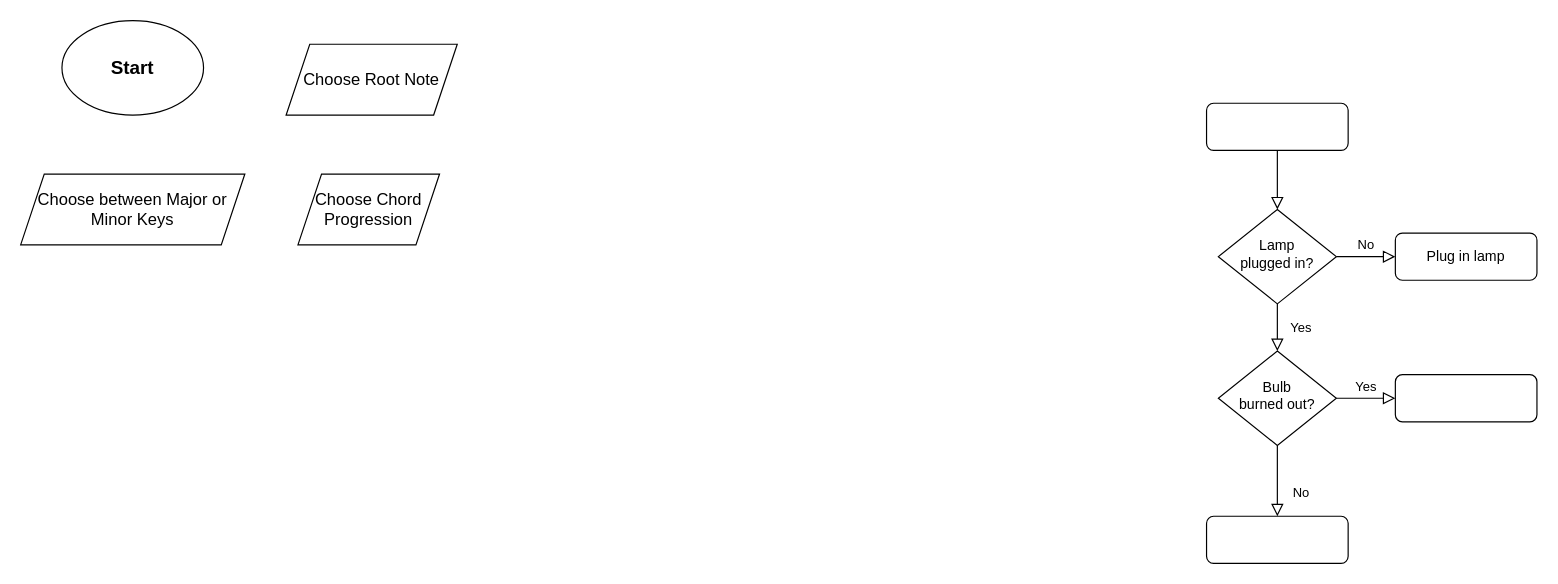
Image size: 1558x584. Some labels were removed from this diagram. Each missing label, with the centre of its shape:
"Lamp doesn't work" belongs at [1276,126].
"Repair Lamp" belongs at [1276,539].
"Replace Bulb" belongs at [1465,397].
